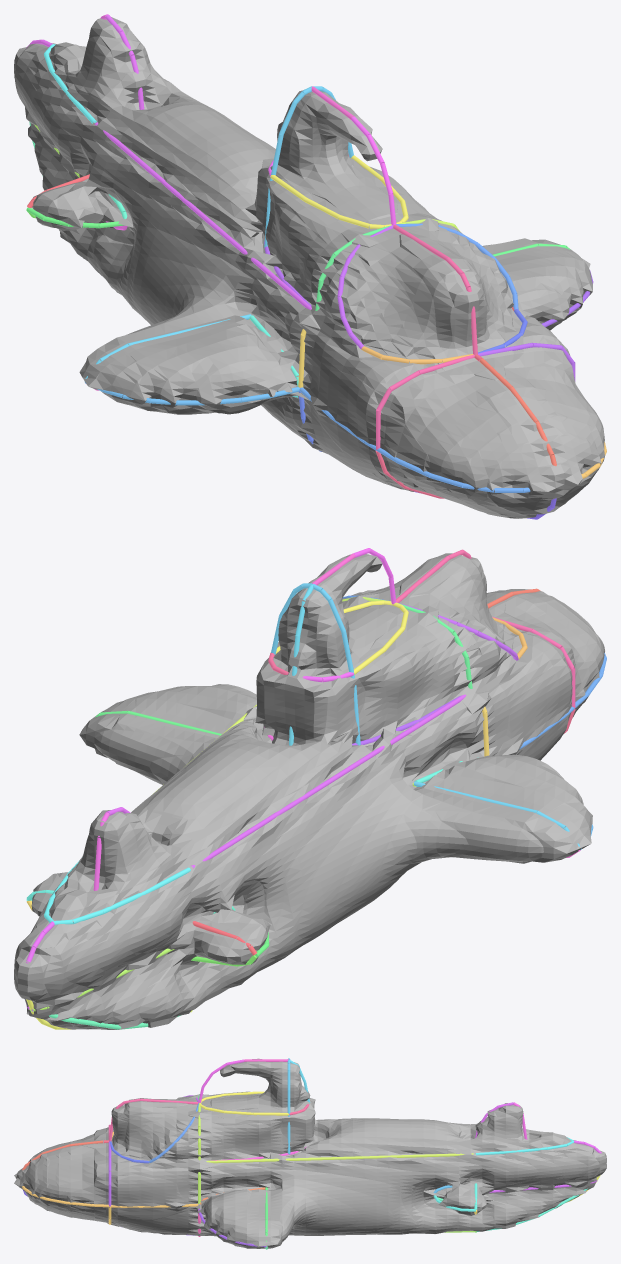
Rendered from scaffolds3d_submarine.gltf.
3 views of the same model, one above another, from view 1: azimuth 30°, elevation 25°; view 2: azimuth 150°, elevation 25°; view 3: azimuth 270°, elevation 25° (orthographic). The views are drawn at different scales.
Size of the model in its own units: 0.4659 by 0.2596 by 0.8681.
